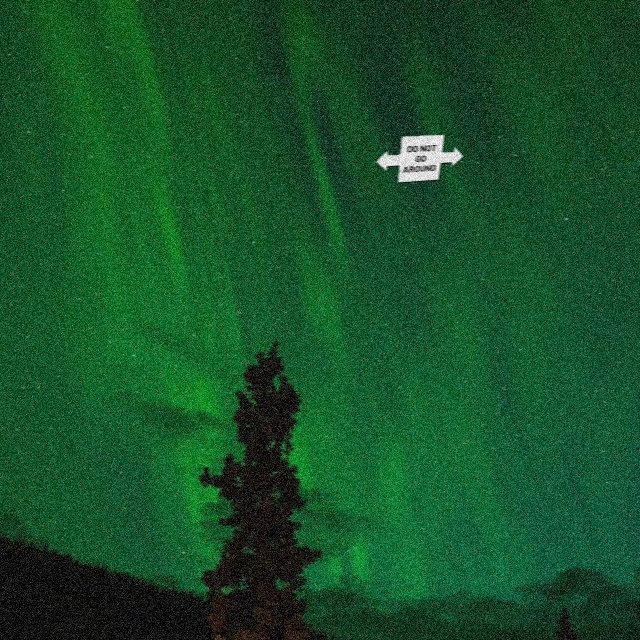DO_NOT_GO_AROUND: (376, 135, 465, 184)
